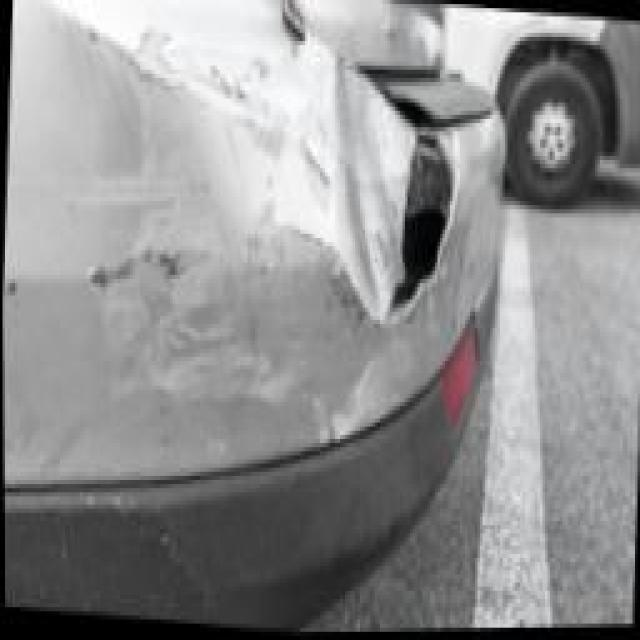Bumper: (0, 8, 498, 494)
